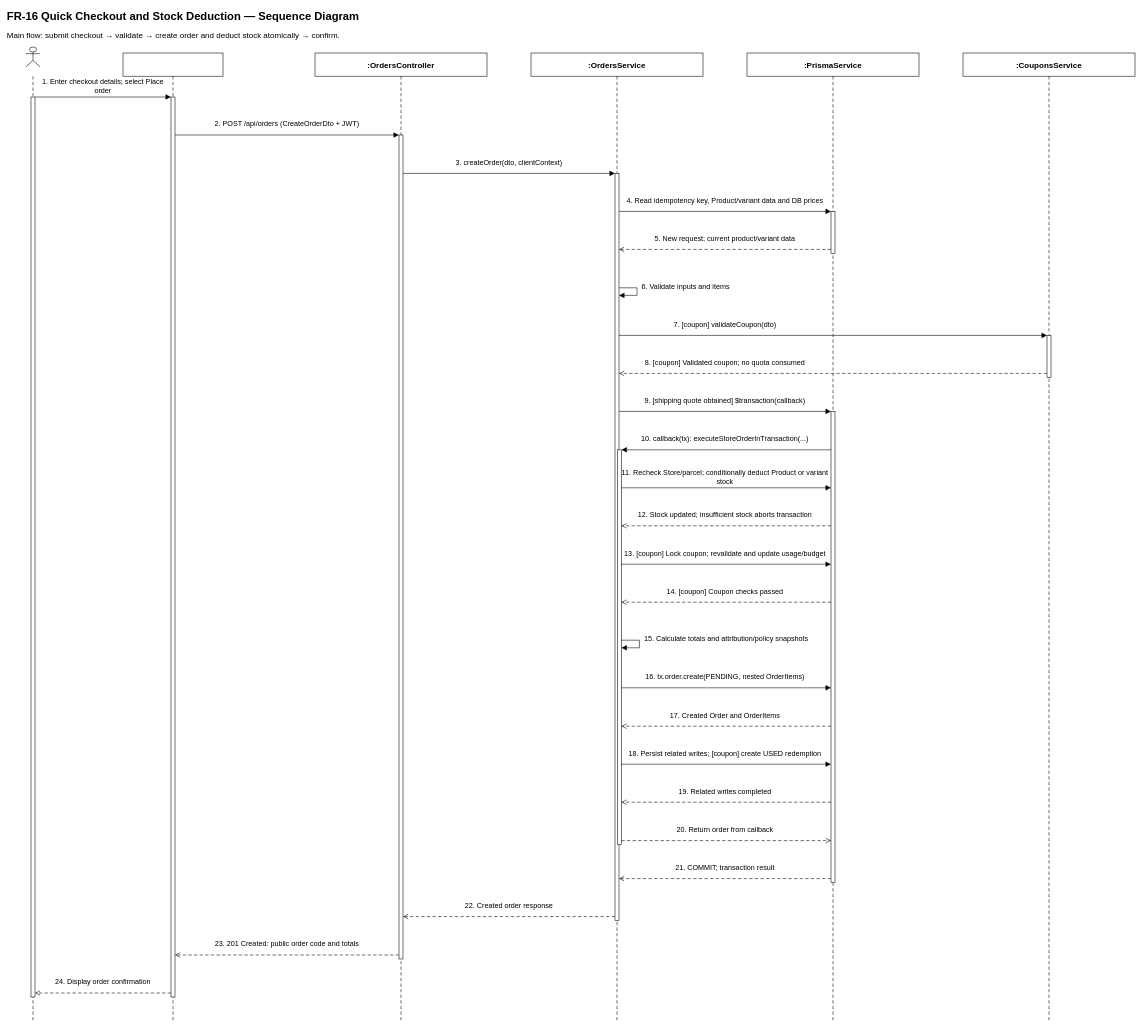
This 1142x1028 diagram has some shape labels left out. Each missing label, with the box of its shape:
Browser: (123, 53, 223, 76)
Customer: (25, 47, 40, 67)
